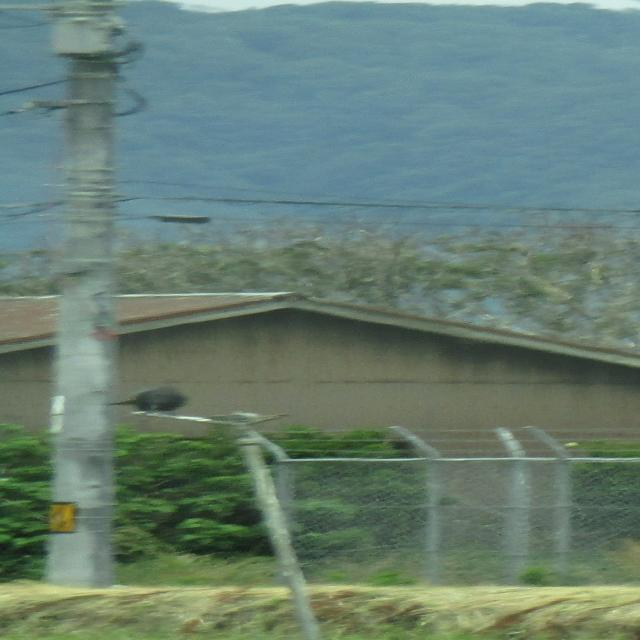pole: (14, 2, 212, 607)
